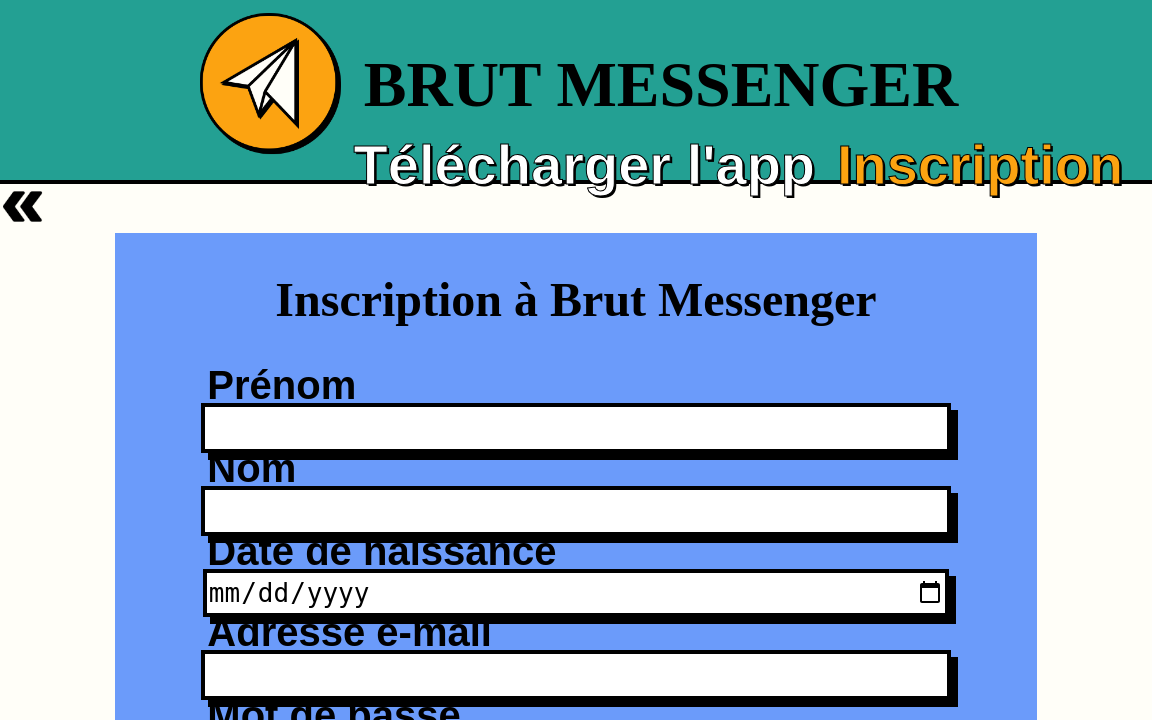
it: addUserForm › error-different-passwords
This screenshot has width=1152, height=720.
Type "Maxime" into the field with id "first-name" at (576, 428), box [201, 403, 950, 453]
Type "Authié" into the field with id "last-name" at (576, 511), box [201, 486, 950, 536]
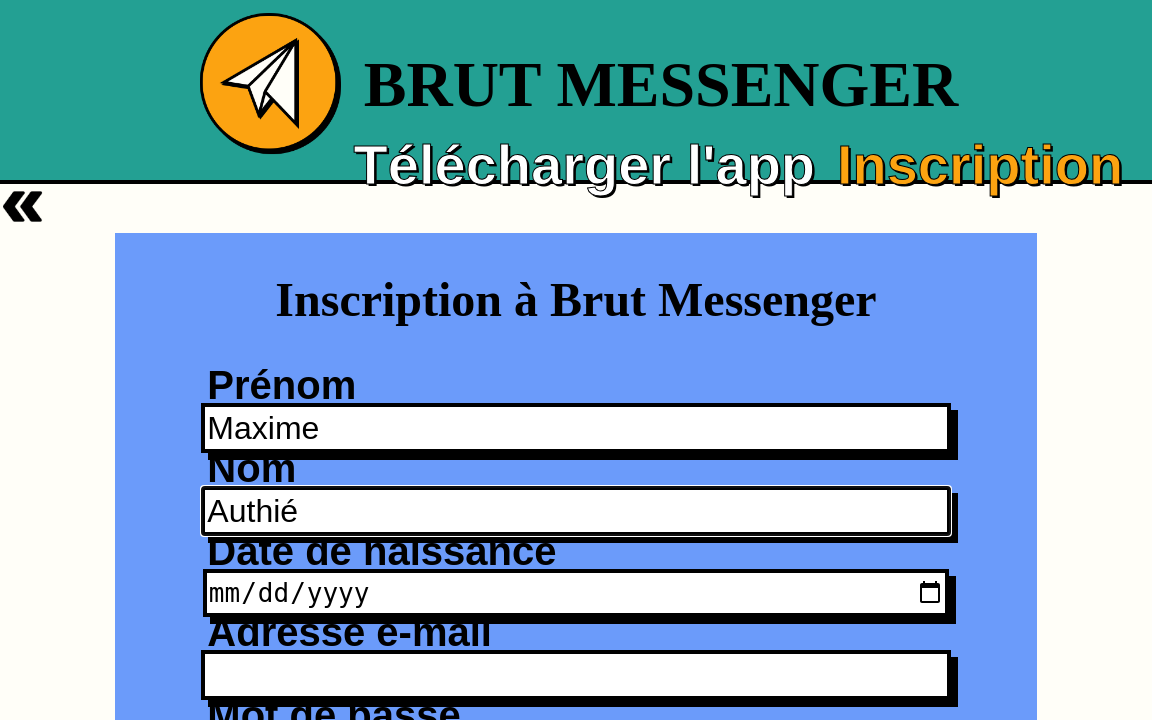
Type "authie.maxime@orange.fr" into the field with id "email" at (576, 675), box [201, 650, 950, 700]
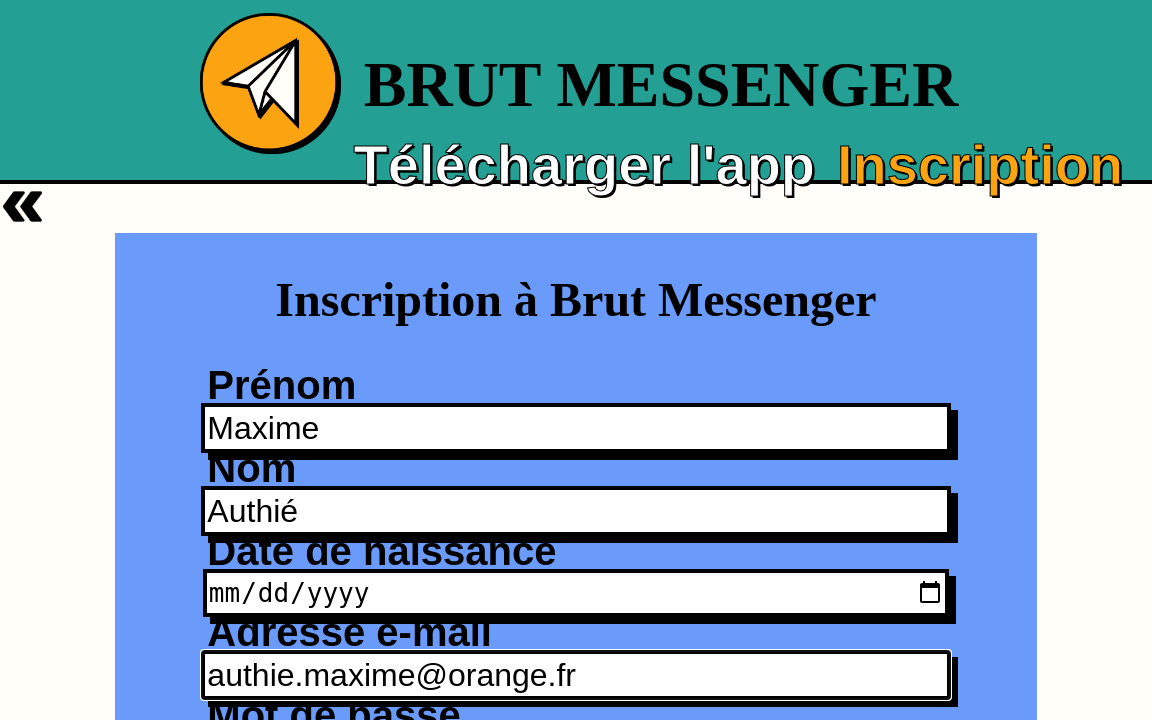
Scroll
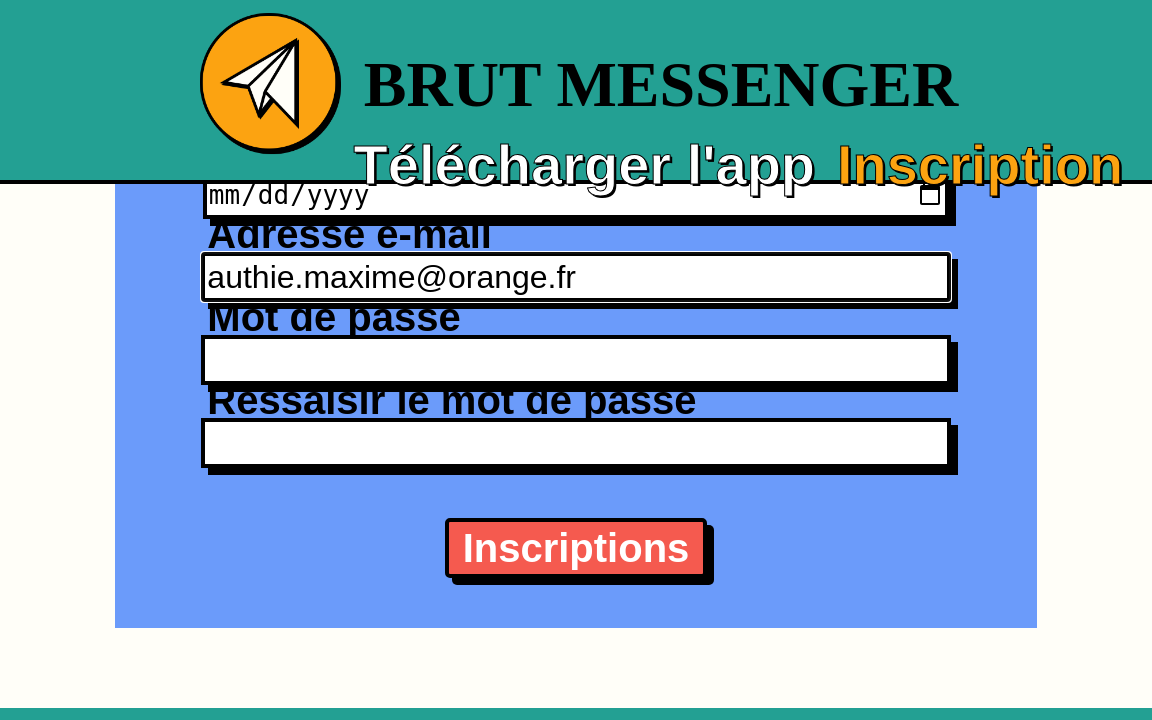
Type "Azerty99" into the password field labelled "Mot de passe" at (576, 360), box [201, 335, 950, 385]
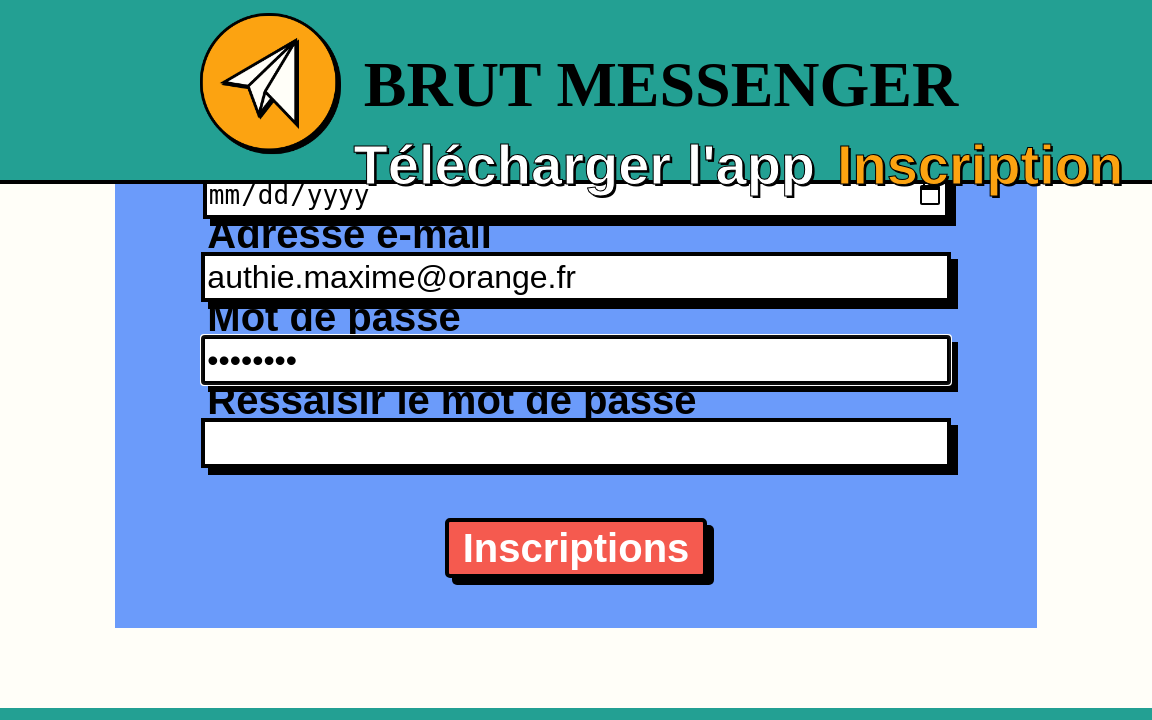
Type "Azerty999" into the password field with id "re-password" at (576, 443), box [201, 418, 950, 468]
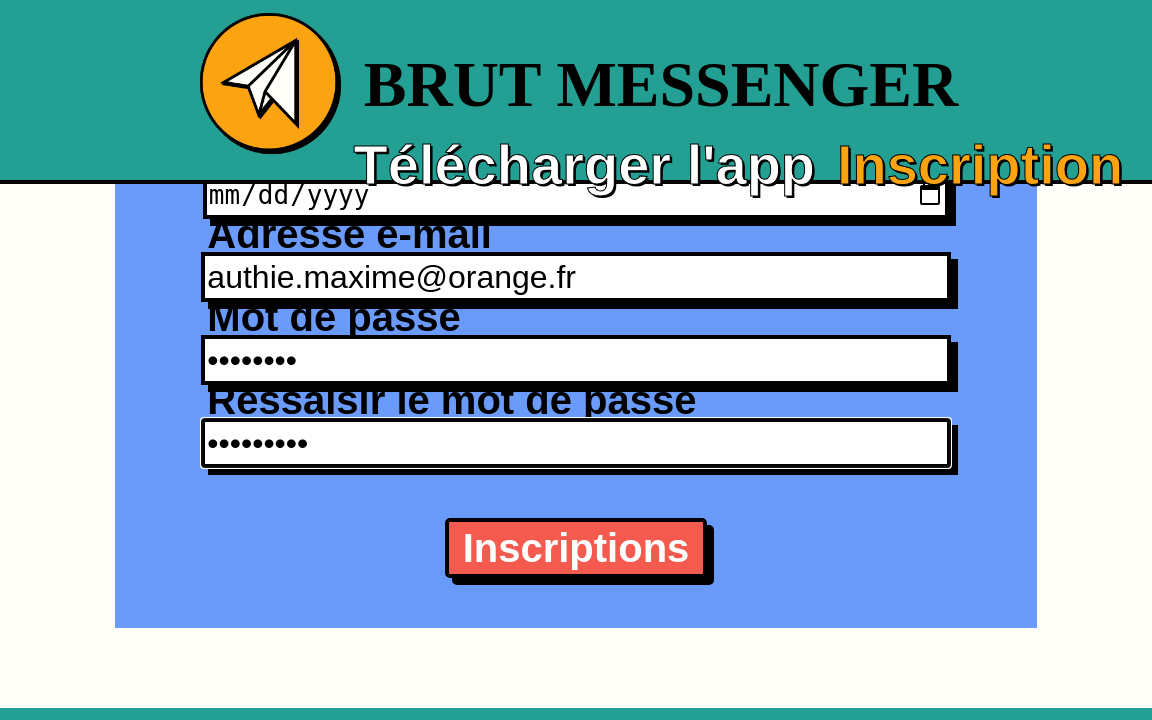
Click the 2nd field at (576, 548), box [445, 518, 707, 578]
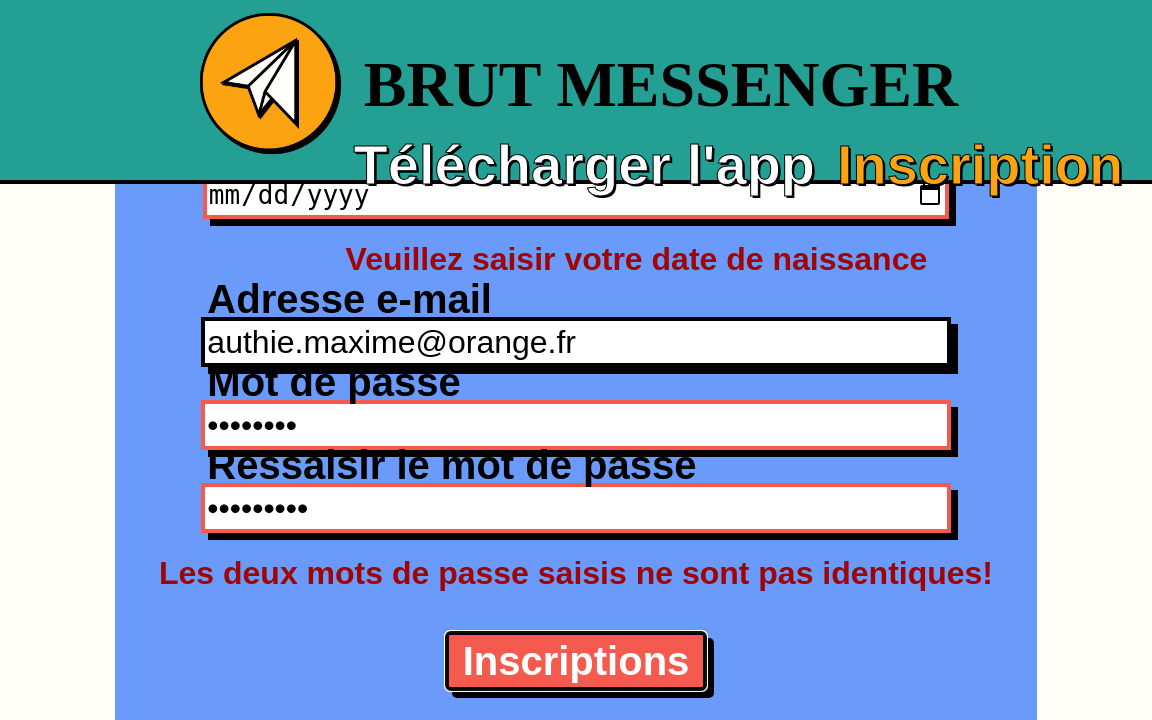
Check: the text "Les deux mots de passe saisis ne sont pas identiques!" is shown, box [115, 565, 1037, 581]
